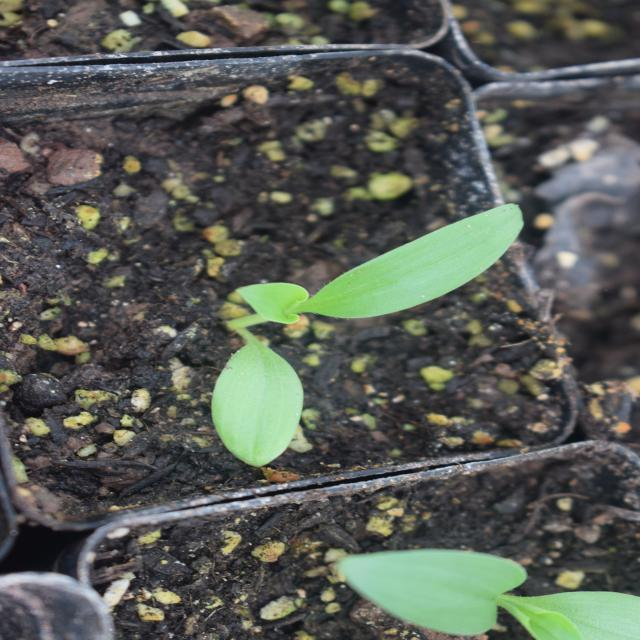Common Dayflower: (195, 103, 458, 434)
